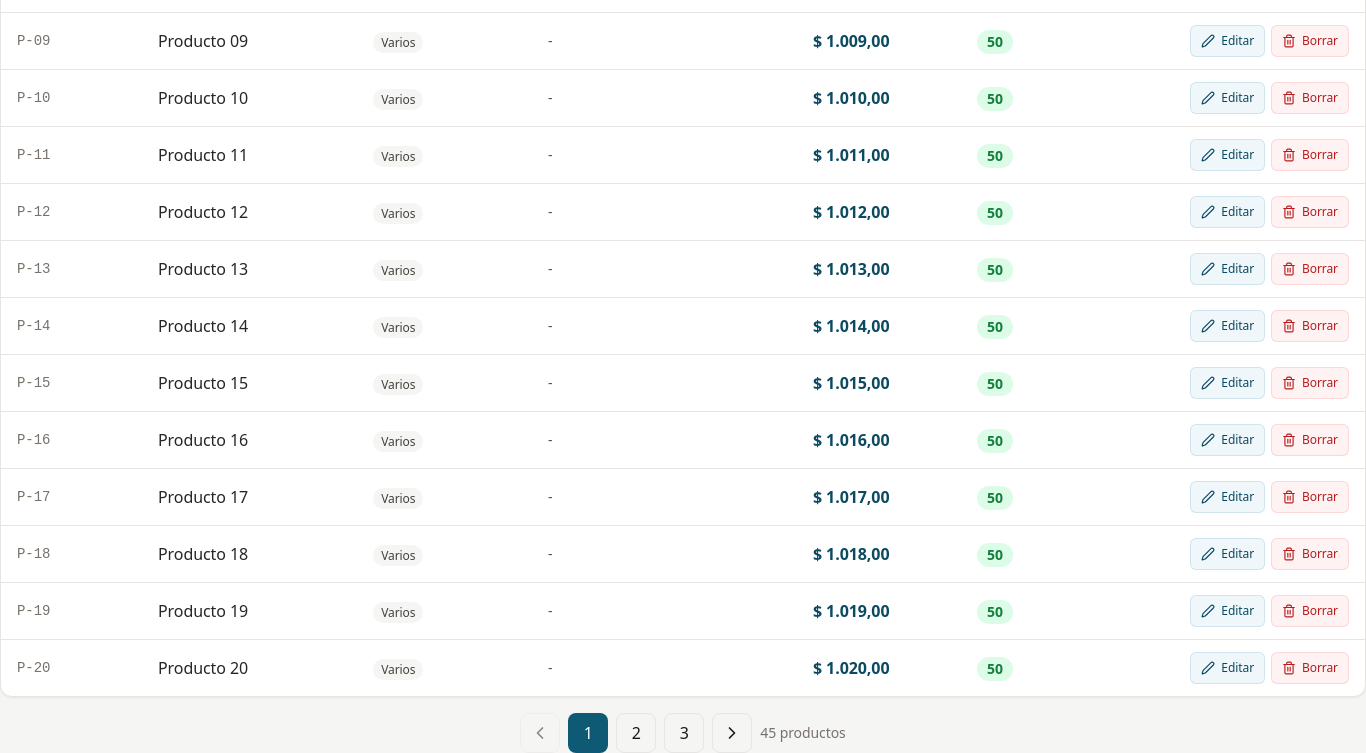
Test: VistaProductos — paginacion (control: lo que ya andaba) › la ultima pagina tiene los 5 que quedan
(page scrolled)
Click the button named "Página 3" at point(684, 733), box [664,713,704,752]
(page scrolled)
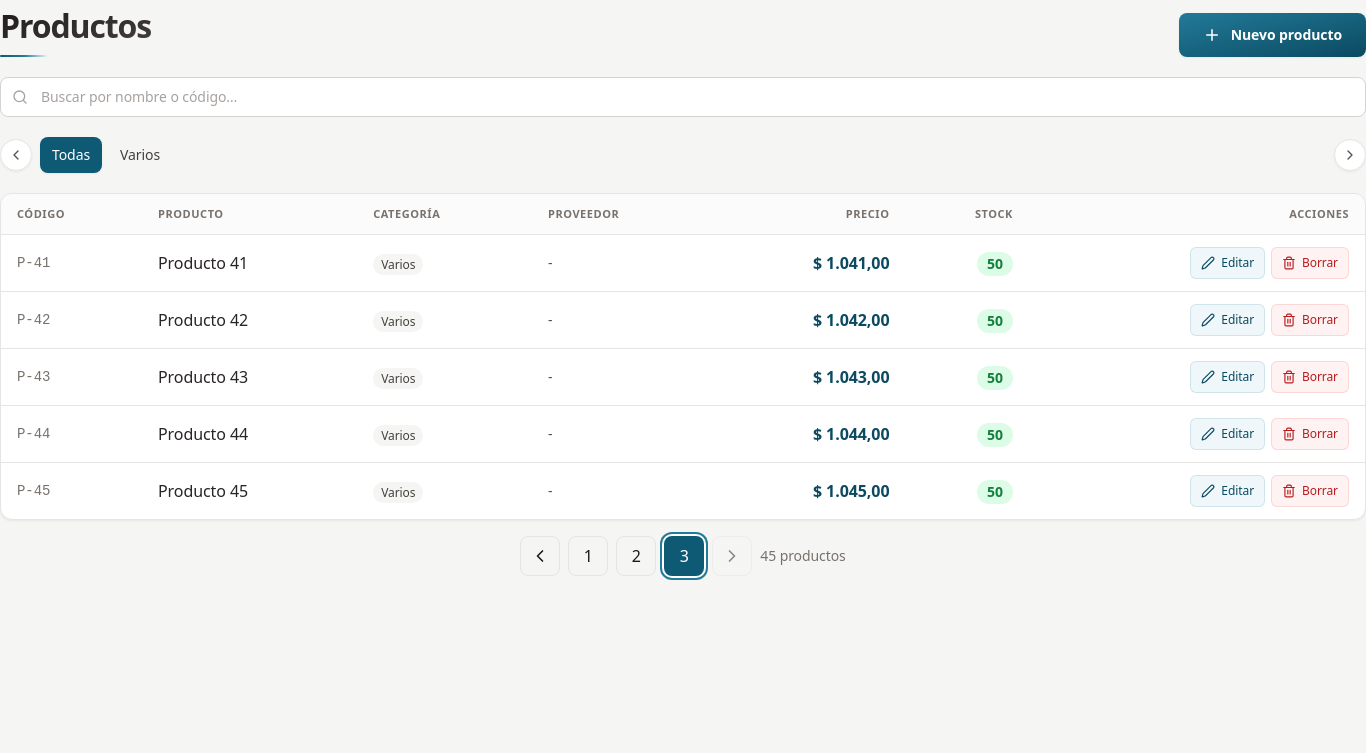
Now the button named "Página siguiente" is disabled, box [712,536,752,576]
